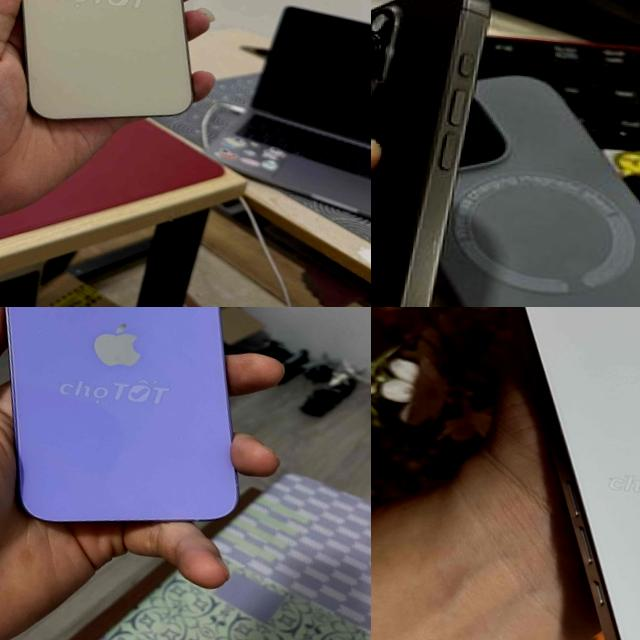gen_12_13: (0, 307, 273, 546)
gen_14: (0, 0, 221, 142)
gen_16: (510, 307, 640, 640), (371, 0, 488, 307)
